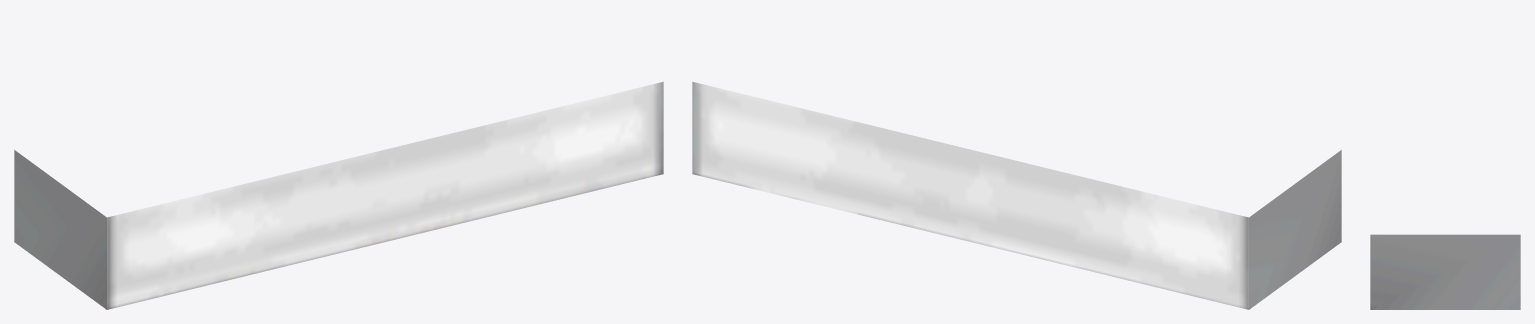
The model's file is lights10.glb.
3 views of the same model, side by side, from view 1: azimuth 30°, elevation 25°; view 2: azimuth 150°, elevation 25°; view 3: azimuth 270°, elevation 25° (orthographic). The views are drawn at different scales.
Parts seen in each view (by area): view 1: lights10; view 2: lights10; view 3: lights10.
Part boxes in pixels (<box>): lights10: <box>14,81,663,309</box>; lights10: <box>692,81,1341,309</box>; lights10: <box>1370,234,1520,309</box>.
Bounding box in the file's own units: 248 × 39.42 × 71.48.
Materials: 1 (1 with a texture image).
